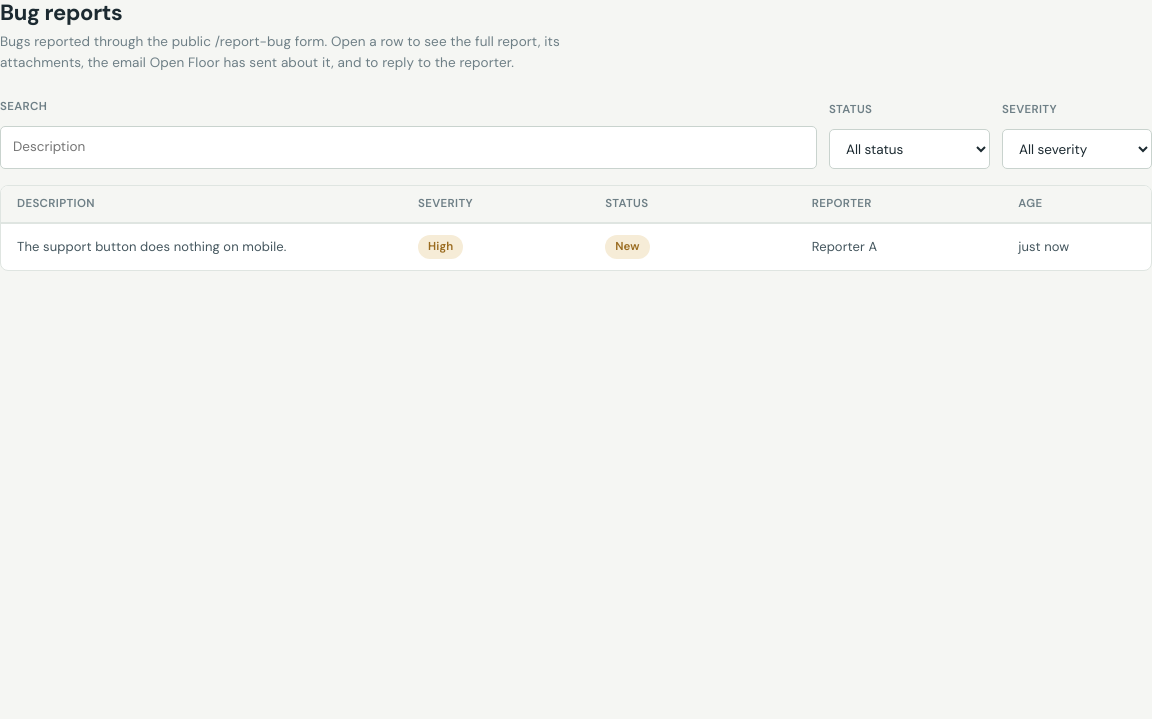
it: bug detail drawer › opens from the list row and shows the reference and full report
Click the text "The support button does nothing on mobile.": point(152, 246) [17,238,286,255]
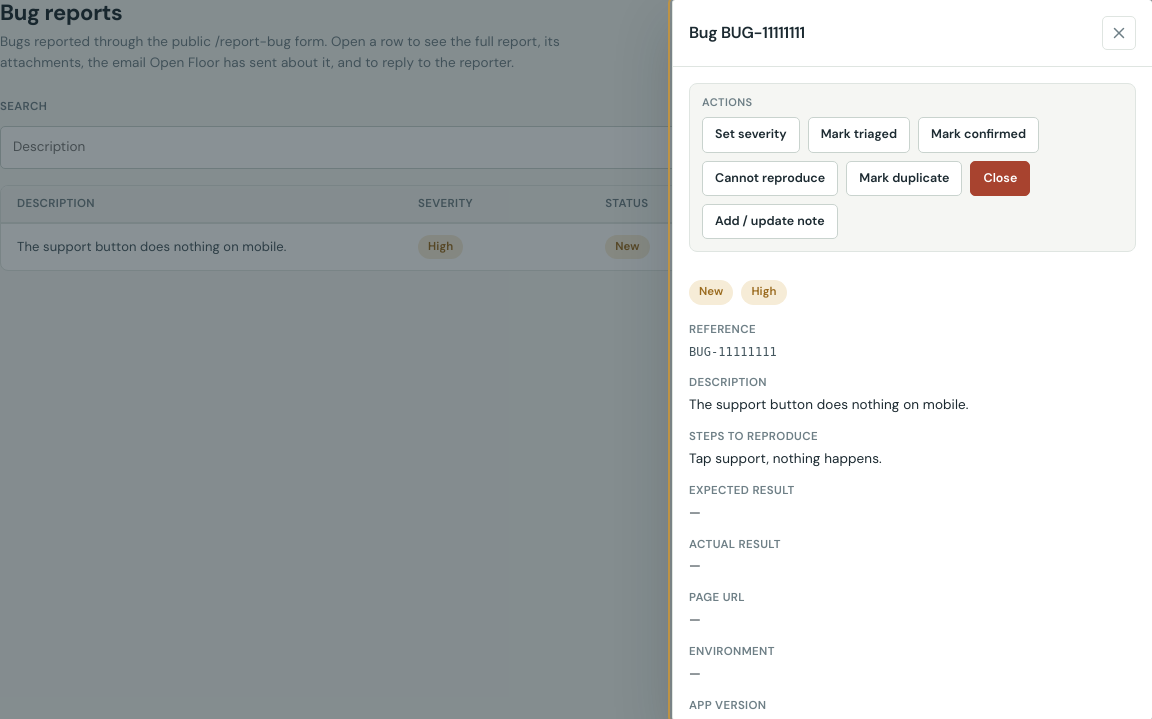
Now the heading "Bug BUG-11111111" is shown, box [689,23,805,43]
Now the text "Tap support, nothing happens." is shown, box [689,450,882,467]
